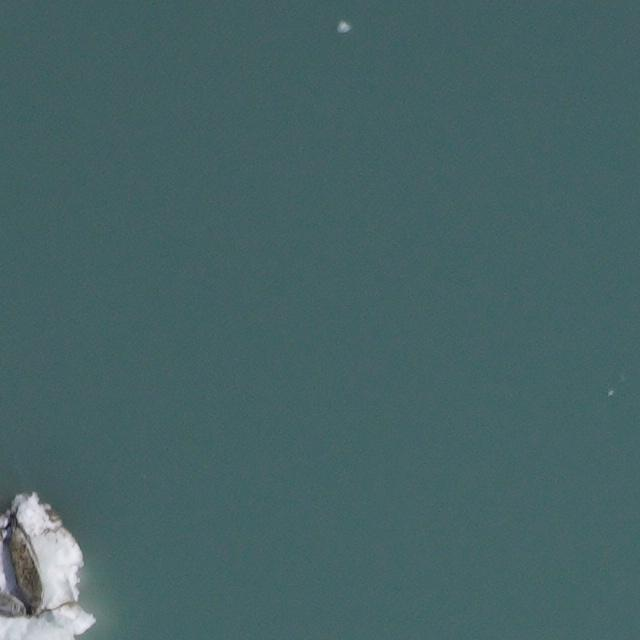seal: (0, 510, 52, 619)
